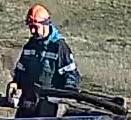gloves: (6, 78, 21, 108)
helmet: (25, 3, 51, 26)
vest: (20, 36, 70, 89)
